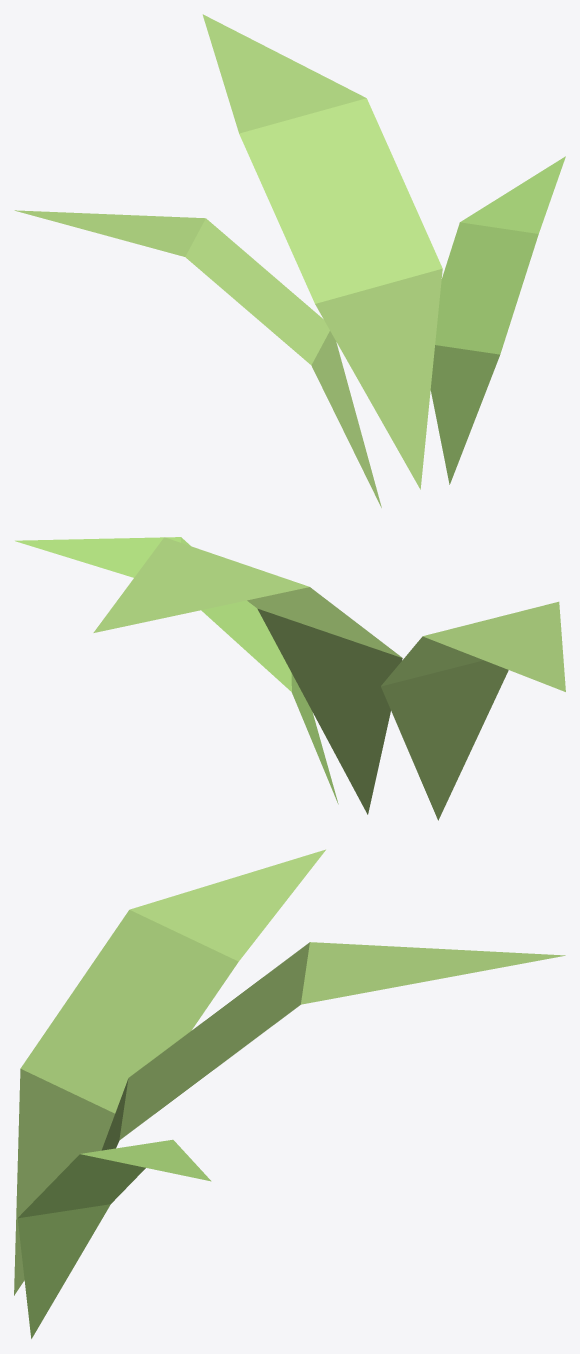
Rendered from Plant_b_TwoS_03.fbx.
3 renders of one model, top to bottom at view 1: azimuth 30°, elevation 25°; view 2: azimuth 150°, elevation 25°; view 3: azimuth 270°, elevation 25°, orthographic. The views are drawn at different scales.
Visible parts, largest first — view 1: Plant_b_TwoS_03; view 2: Plant_b_TwoS_03; view 3: Plant_b_TwoS_03.
Boxes of the visible parts, x1=… form: Plant_b_TwoS_03: x1=14, y1=14, x2=565, y2=507; Plant_b_TwoS_03: x1=15, y1=537, x2=565, y2=820; Plant_b_TwoS_03: x1=14, y1=849, x2=565, y2=1338.
Bounding box in the file's own units: 0.5676 × 0.336 × 0.453.
